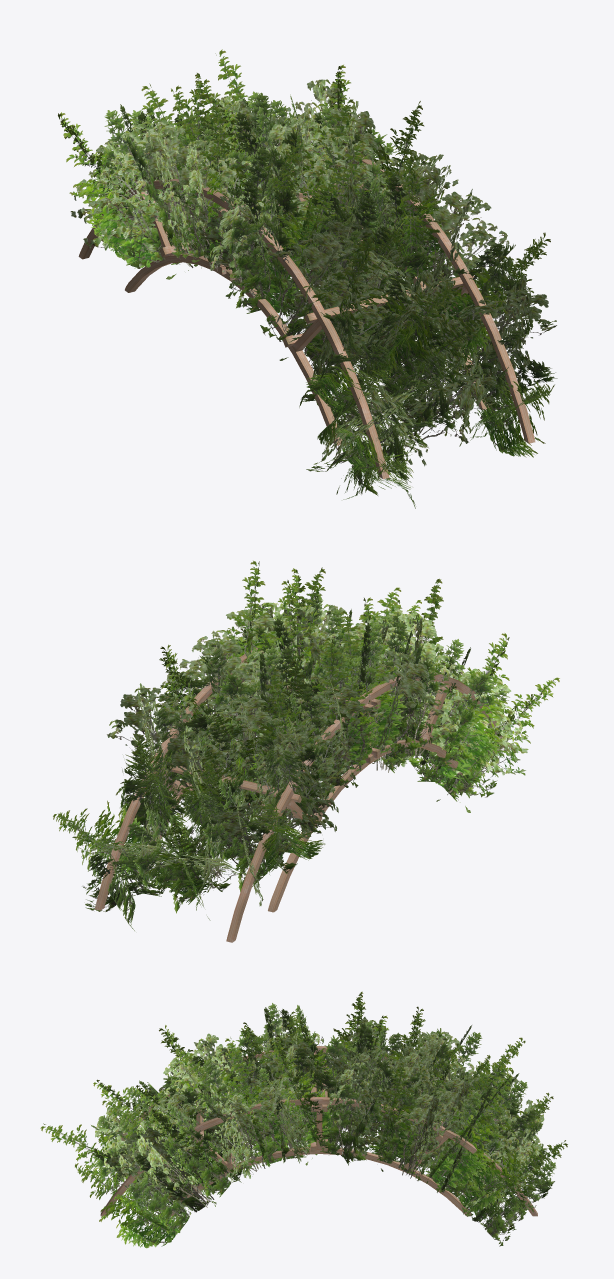
Rendered from SM_Hedgerows_Arch.fbx.
3 views of the same model, one above another, from view 1: azimuth 30°, elevation 25°; view 2: azimuth 150°, elevation 25°; view 3: azimuth 270°, elevation 25° (orthographic). The views are drawn at different scales.
Visible parts, largest first — view 1: SM_Hedgerows_Arch; view 2: SM_Hedgerows_Arch; view 3: SM_Hedgerows_Arch.
Part boxes in pixels (left/top/right/bottom): SM_Hedgerows_Arch: left=58, top=49, right=557, bottom=508; SM_Hedgerows_Arch: left=53, top=560, right=559, bottom=942; SM_Hedgerows_Arch: left=40, top=991, right=567, bottom=1248.
Size of the model in its own units: 193 by 423 by 198.
1 material, 1 textured.
